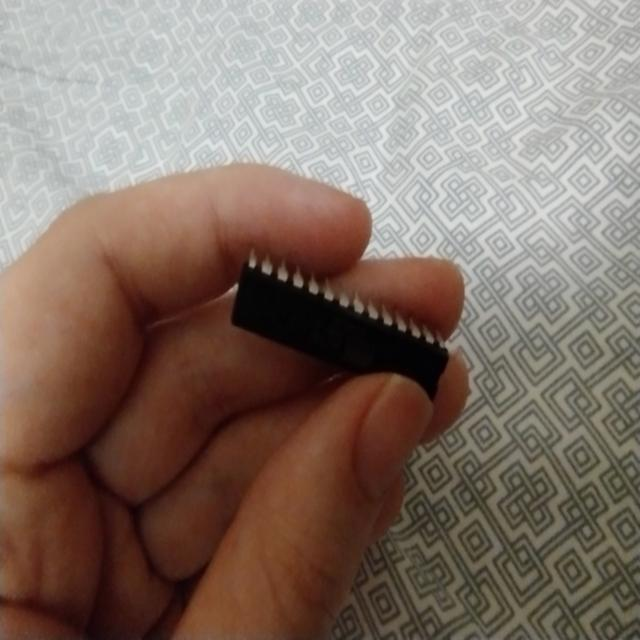atmega: (228, 248, 452, 405)
